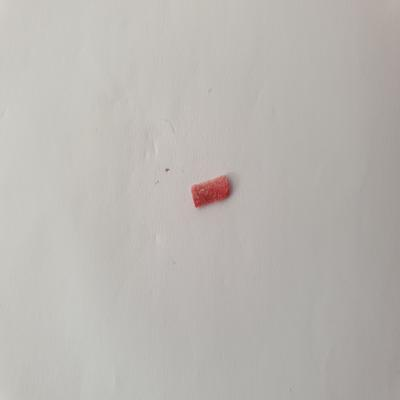plastic: (188, 171, 238, 209)
